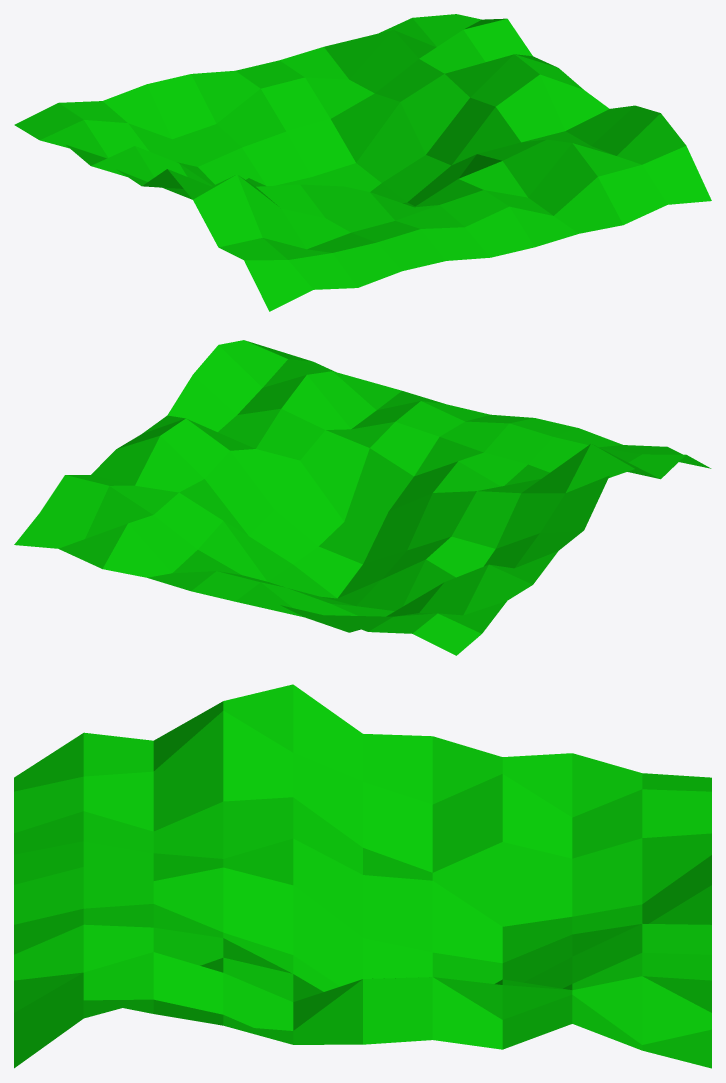
Rendered from terrain2.fbx.
3 renders of one model, top to bottom at view 1: azimuth 30°, elevation 25°; view 2: azimuth 150°, elevation 25°; view 3: azimuth 270°, elevation 25°, orthographic. The views are drawn at different scales.
Parts seen in each view (by area): view 1: Plane.002; view 2: Plane.002; view 3: Plane.002.
Boxes of the visible parts, bbox=[...] form: Plane.002: bbox=[14, 14, 711, 311]; Plane.002: bbox=[14, 340, 711, 655]; Plane.002: bbox=[14, 684, 711, 1068].
Bounding box in the file's own units: 2000 × 614 × 2000.
